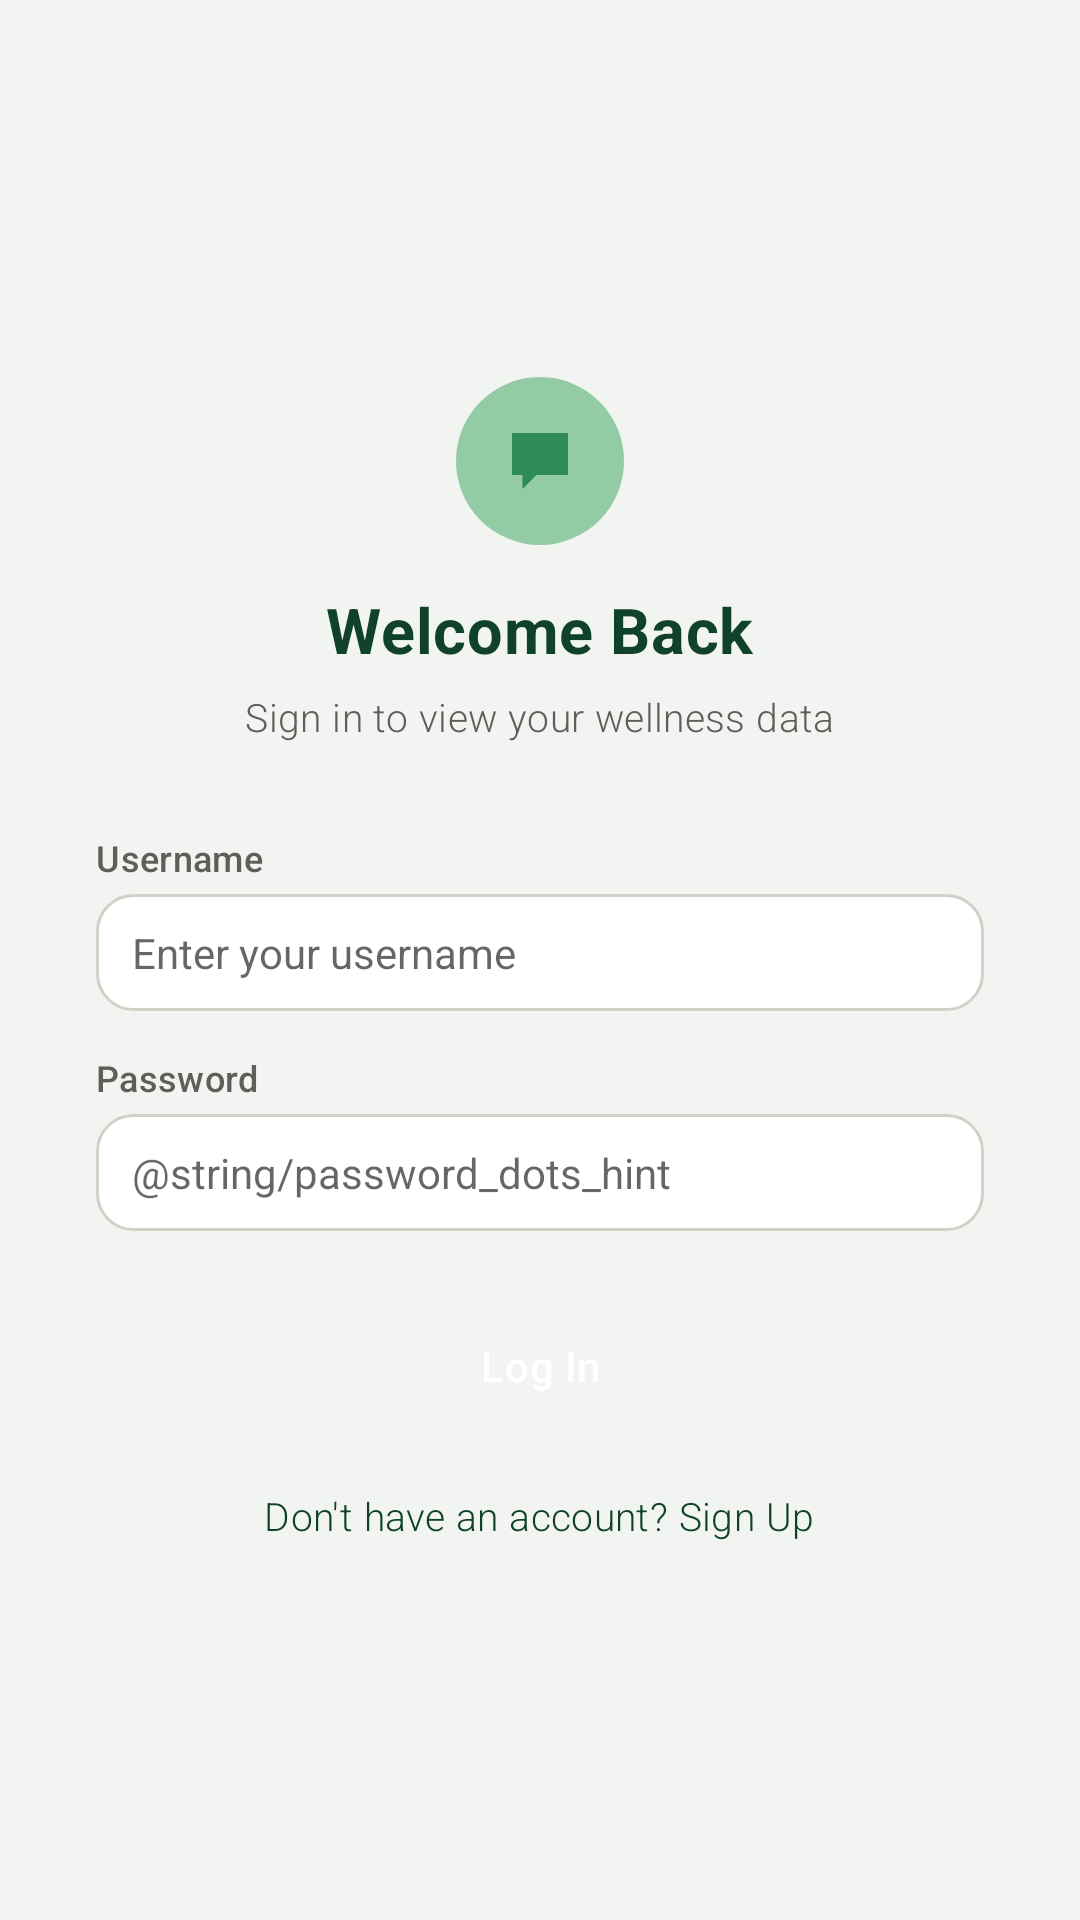

Named icons in this screenshot (1080 × 1920) and their centers, [x,y]:
chat: [540,461]
